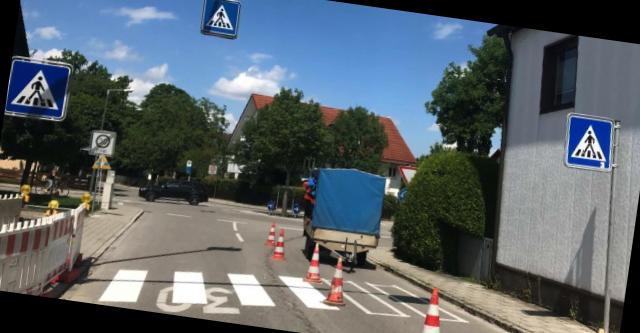crosswalk-sign: (6, 56, 75, 123), (561, 112, 619, 173), (199, 1, 242, 39)
